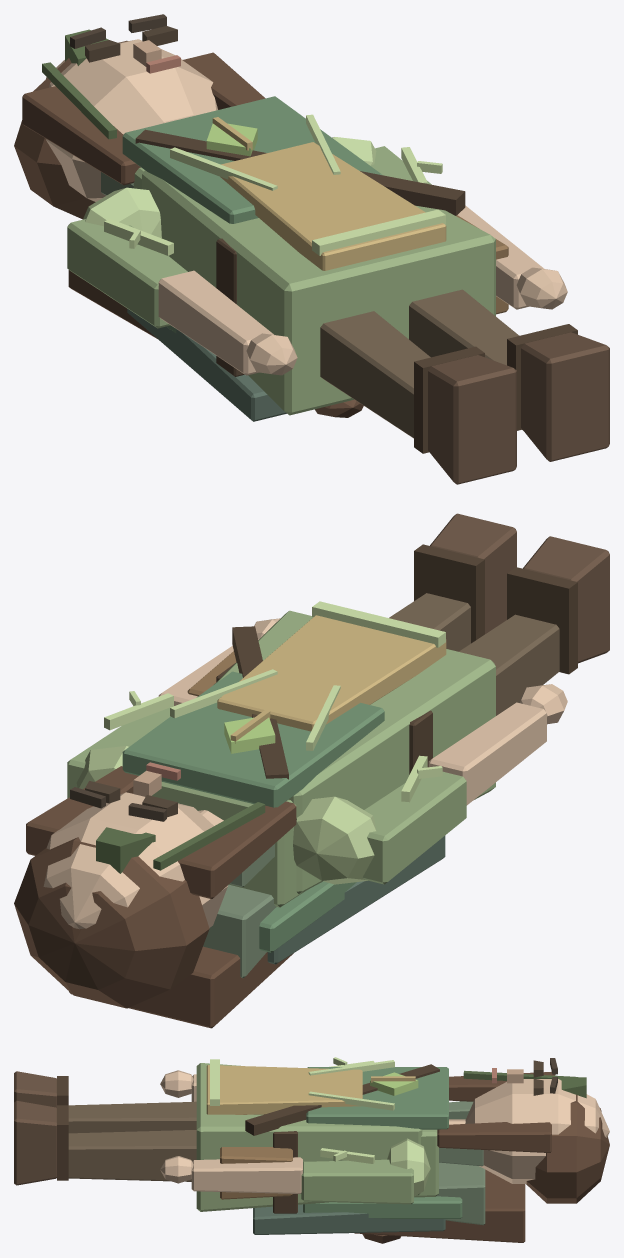
The model's file is ZeleninFemale.fbx.
3 views of the same model, one above another, from view 1: azimuth 30°, elevation 25°; view 2: azimuth 150°, elevation 25°; view 3: azimuth 270°, elevation 25° (orthographic). The views are drawn at different scales.
Parts seen in each view (by area): view 1: FieldTunic, Apron_Front, Boot_Left, Boot_Right, Head, Vest_FrontPanel, Leg_Left, Arm_Upper_Left, Arm_Forearm_Left, Leg_Right, Hair_Lock_Left, Shawl_BackPanel (+19 smaller); view 2: Hair_Cap, FieldTunic, Apron_Front, Vest_FrontPanel, Head, Arm_Upper_Left, ShoulderCloth_Left, Arm_Forearm_Left, Hair_Long_Back, Leg_Left, Boot_Left, Hair_Lock_Left (+22 smaller); view 3: FieldTunic, Head, Apron_Front, Leg_Right, Vest_FrontPanel, Hair_Cap, Arm_Upper_Right, Hair_Long_Back, Shawl_BackPanel, Leg_Left, Arm_Forearm_Right, Boot_Right (+24 smaller).
Boxes of the visible parts, bbox=[...] form: FieldTunic: bbox=[142, 170, 495, 415]; Apron_Front: bbox=[220, 142, 446, 270]; Boot_Left: bbox=[428, 355, 516, 484]; Boot_Right: bbox=[521, 332, 609, 461]; Head: bbox=[45, 39, 217, 201]; Vest_FrontPanel: bbox=[122, 96, 382, 223]; Leg_Left: bbox=[320, 311, 430, 438]; Arm_Upper_Left: bbox=[67, 219, 187, 328]; Arm_Forearm_Left: bbox=[158, 270, 273, 375]; Leg_Right: bbox=[409, 289, 522, 429]; Hair_Lock_Left: bbox=[22, 86, 140, 185]; Shawl_BackPanel: bbox=[127, 309, 286, 421]; Hair_Cap: bbox=[14, 837, 209, 1008]; FieldTunic: bbox=[214, 610, 495, 893]; Apron_Front: bbox=[217, 615, 446, 731]; Vest_FrontPanel: bbox=[122, 671, 384, 807]; Head: bbox=[43, 792, 227, 929]; Arm_Upper_Left: bbox=[362, 771, 466, 884]; ShoulderCloth_Left: bbox=[293, 796, 376, 884]; Arm_Forearm_Left: bbox=[428, 702, 546, 805]; Hair_Long_Back: bbox=[69, 946, 293, 1028]; Leg_Left: bbox=[459, 614, 559, 715]; Boot_Left: bbox=[523, 536, 609, 663]; Hair_Lock_Left: bbox=[178, 801, 296, 898]; FieldTunic: bbox=[196, 1063, 422, 1211]; Head: bbox=[465, 1079, 609, 1183]; Apron_Front: bbox=[206, 1065, 362, 1114]; Leg_Right: bbox=[68, 1130, 196, 1181]; Vest_FrontPanel: bbox=[306, 1067, 448, 1129]; Hair_Cap: bbox=[526, 1094, 609, 1203]; Arm_Upper_Right: bbox=[301, 1159, 413, 1204]; Hair_Long_Back: bbox=[354, 1169, 525, 1242]; Shawl_BackPanel: bbox=[253, 1204, 445, 1234]; Leg_Left: bbox=[68, 1101, 196, 1133]; Arm_Forearm_Right: bbox=[191, 1157, 302, 1193]; Boot_Right: bbox=[14, 1100, 56, 1185].
Bounding box in the file's own units: 72.45 × 54.3 × 179.
